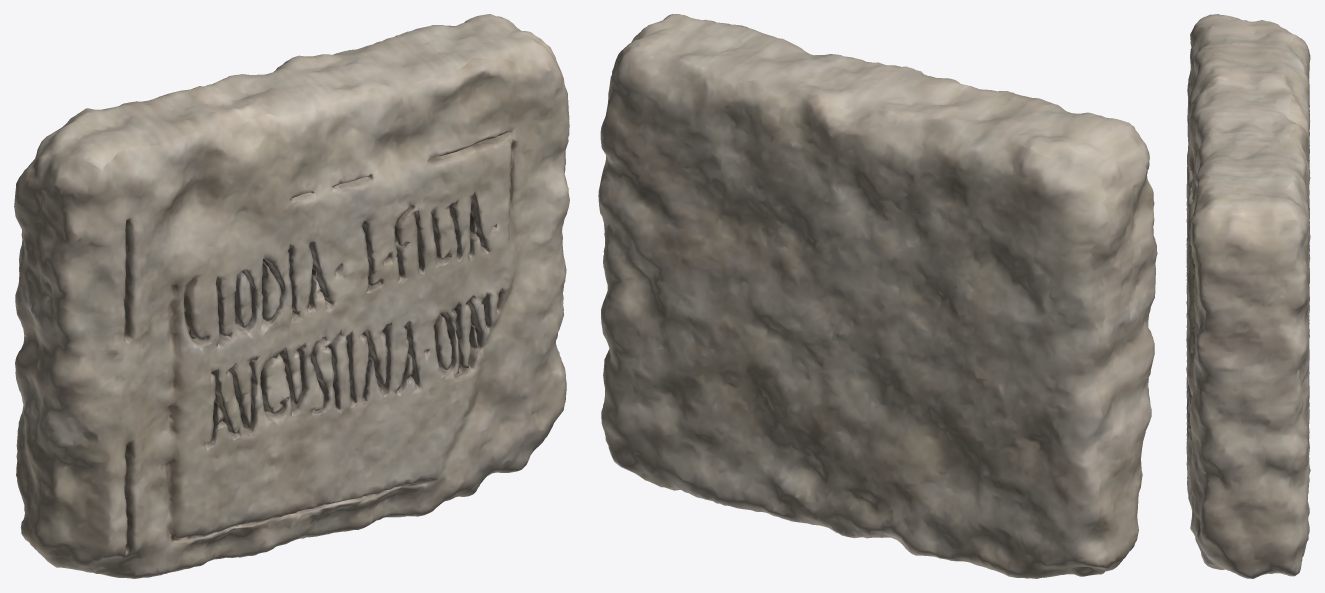
File: 11_INS_clodia.glb
The picture shows the model from 3 angles, left to right: view 1: azimuth 30°, elevation 25°; view 2: azimuth 150°, elevation 25°; view 3: azimuth 270°, elevation 25°; orthographic projection. The views are drawn at different scales.
Parts seen in each view (by area): view 1: CLODIA_LP; view 2: CLODIA_LP; view 3: CLODIA_LP.
Boxes of the visible parts, left/top/right/bottom form: CLODIA_LP: left=14, top=14, right=569, bottom=578; CLODIA_LP: left=598, top=14, right=1157, bottom=578; CLODIA_LP: left=1186, top=14, right=1310, bottom=578.
Bounding box in the file's own units: 0.5731 × 0.4779 × 0.1371.
Materials: 1 (1 with a texture image).
